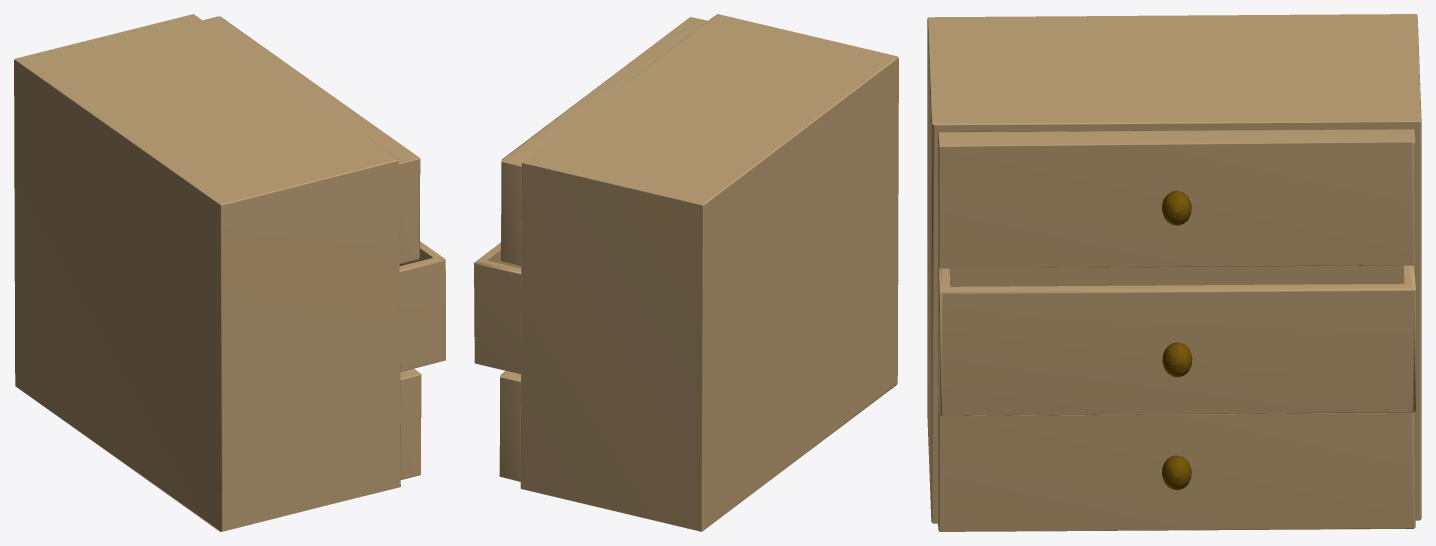
The model's file is nightstand_LOD2.fbx.
3 renders of one model, left to right at view 1: azimuth 30°, elevation 25°; view 2: azimuth 150°, elevation 25°; view 3: azimuth 270°, elevation 25°, orthographic. The views are drawn at different scales.
Parts seen in each view (by area): view 1: nightstand; view 2: nightstand; view 3: nightstand.
Boxes of the visible parts, <box> form: nightstand: <box>14,14,445,531</box>; nightstand: <box>474,14,898,531</box>; nightstand: <box>927,14,1421,531</box>.
Size of the model in its own units: 196 by 242 by 271.
